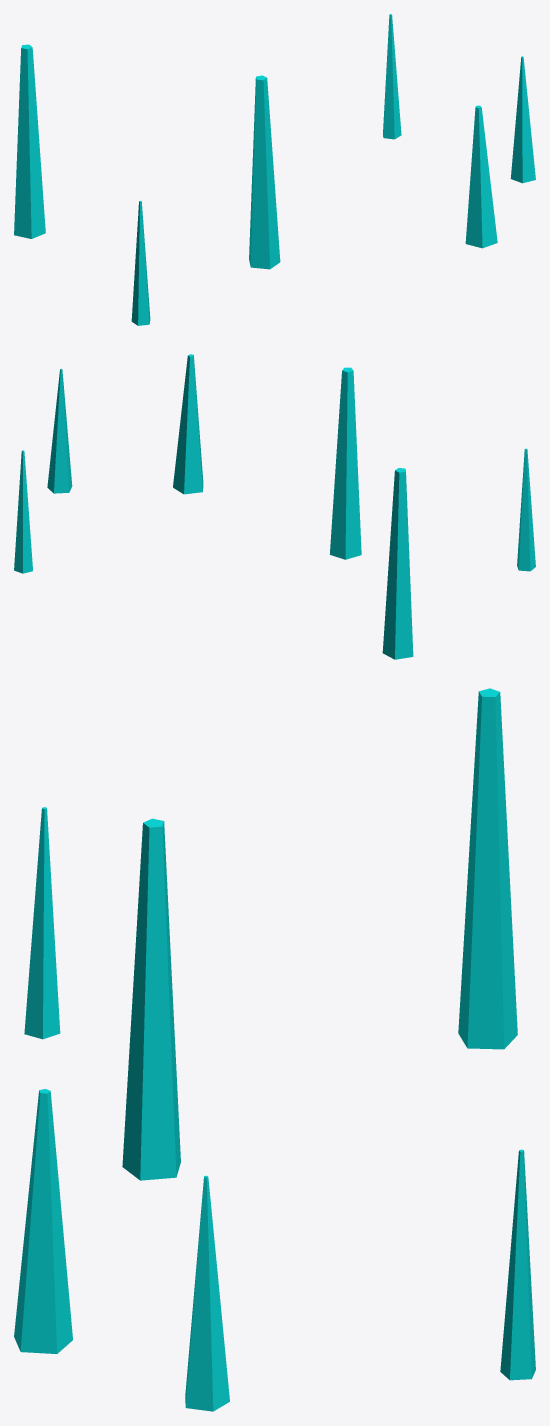
Rendered from SM_Env_Tree_Group_01_Collision.fbx.
3 renders of one model, top to bottom at view 1: azimuth 30°, elevation 25°; view 2: azimuth 150°, elevation 25°; view 3: azimuth 270°, elevation 25°, orthographic. The views are drawn at different scales.
Visible parts, largest first — view 1: SM_Env_Tree_Group_01_Collision; view 2: SM_Env_Tree_Group_01_Collision; view 3: SM_Env_Tree_Group_01_Collision.
Boxes of the visible parts, x1,y1,x2,y2 form: SM_Env_Tree_Group_01_Collision: (14, 14, 535, 325); SM_Env_Tree_Group_01_Collision: (14, 354, 535, 659); SM_Env_Tree_Group_01_Collision: (14, 688, 535, 1411).
Bounding box in the file's own units: 1019 × 411 × 560.
